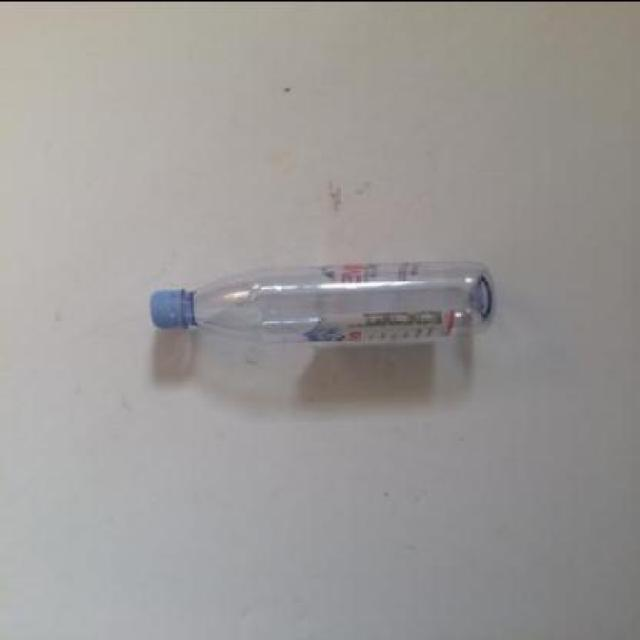PLASTIC: (149, 256, 493, 339), (147, 284, 193, 328)
